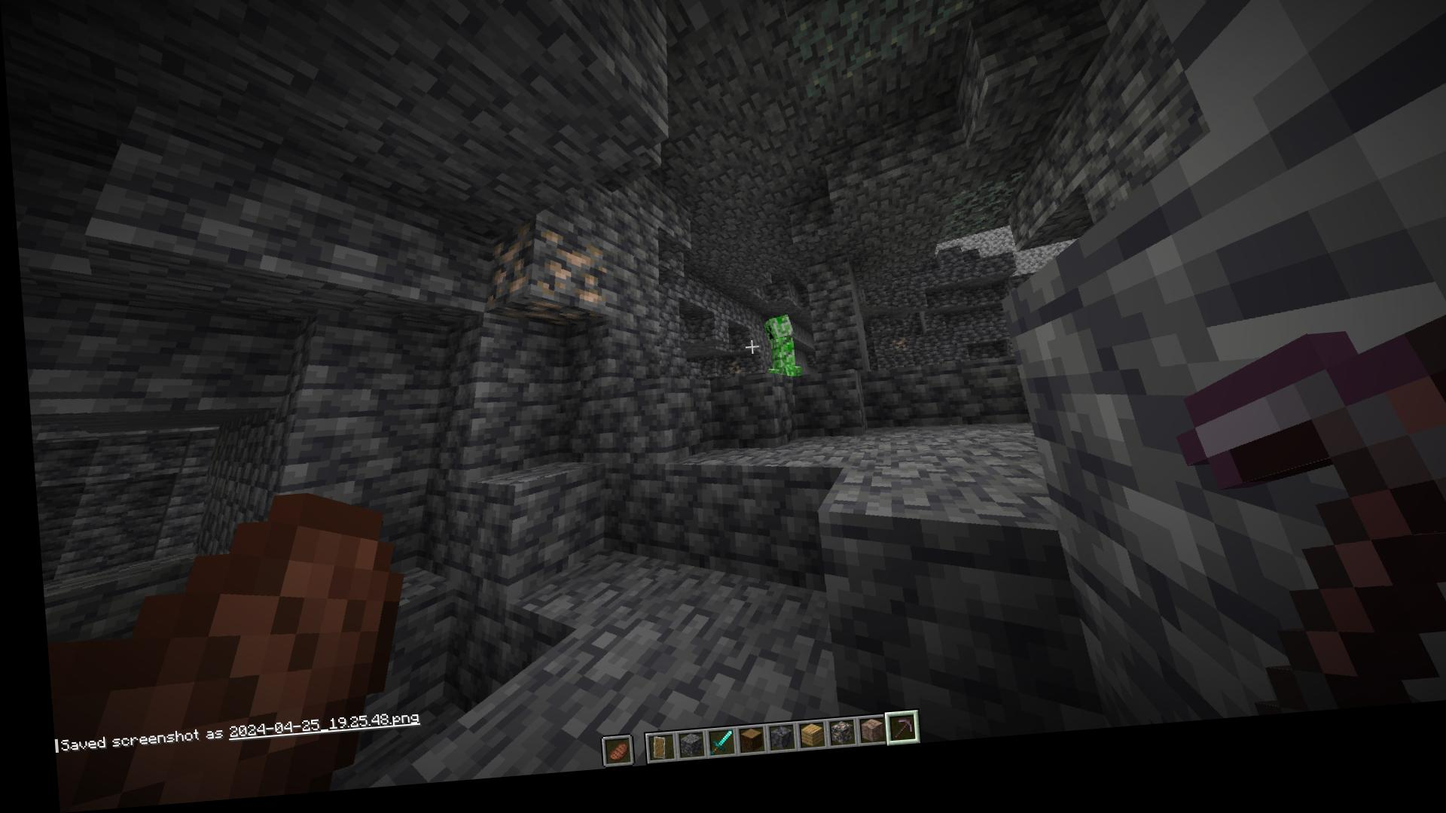iron ore: (480, 224, 601, 334), (717, 369, 735, 388), (885, 351, 901, 368)
